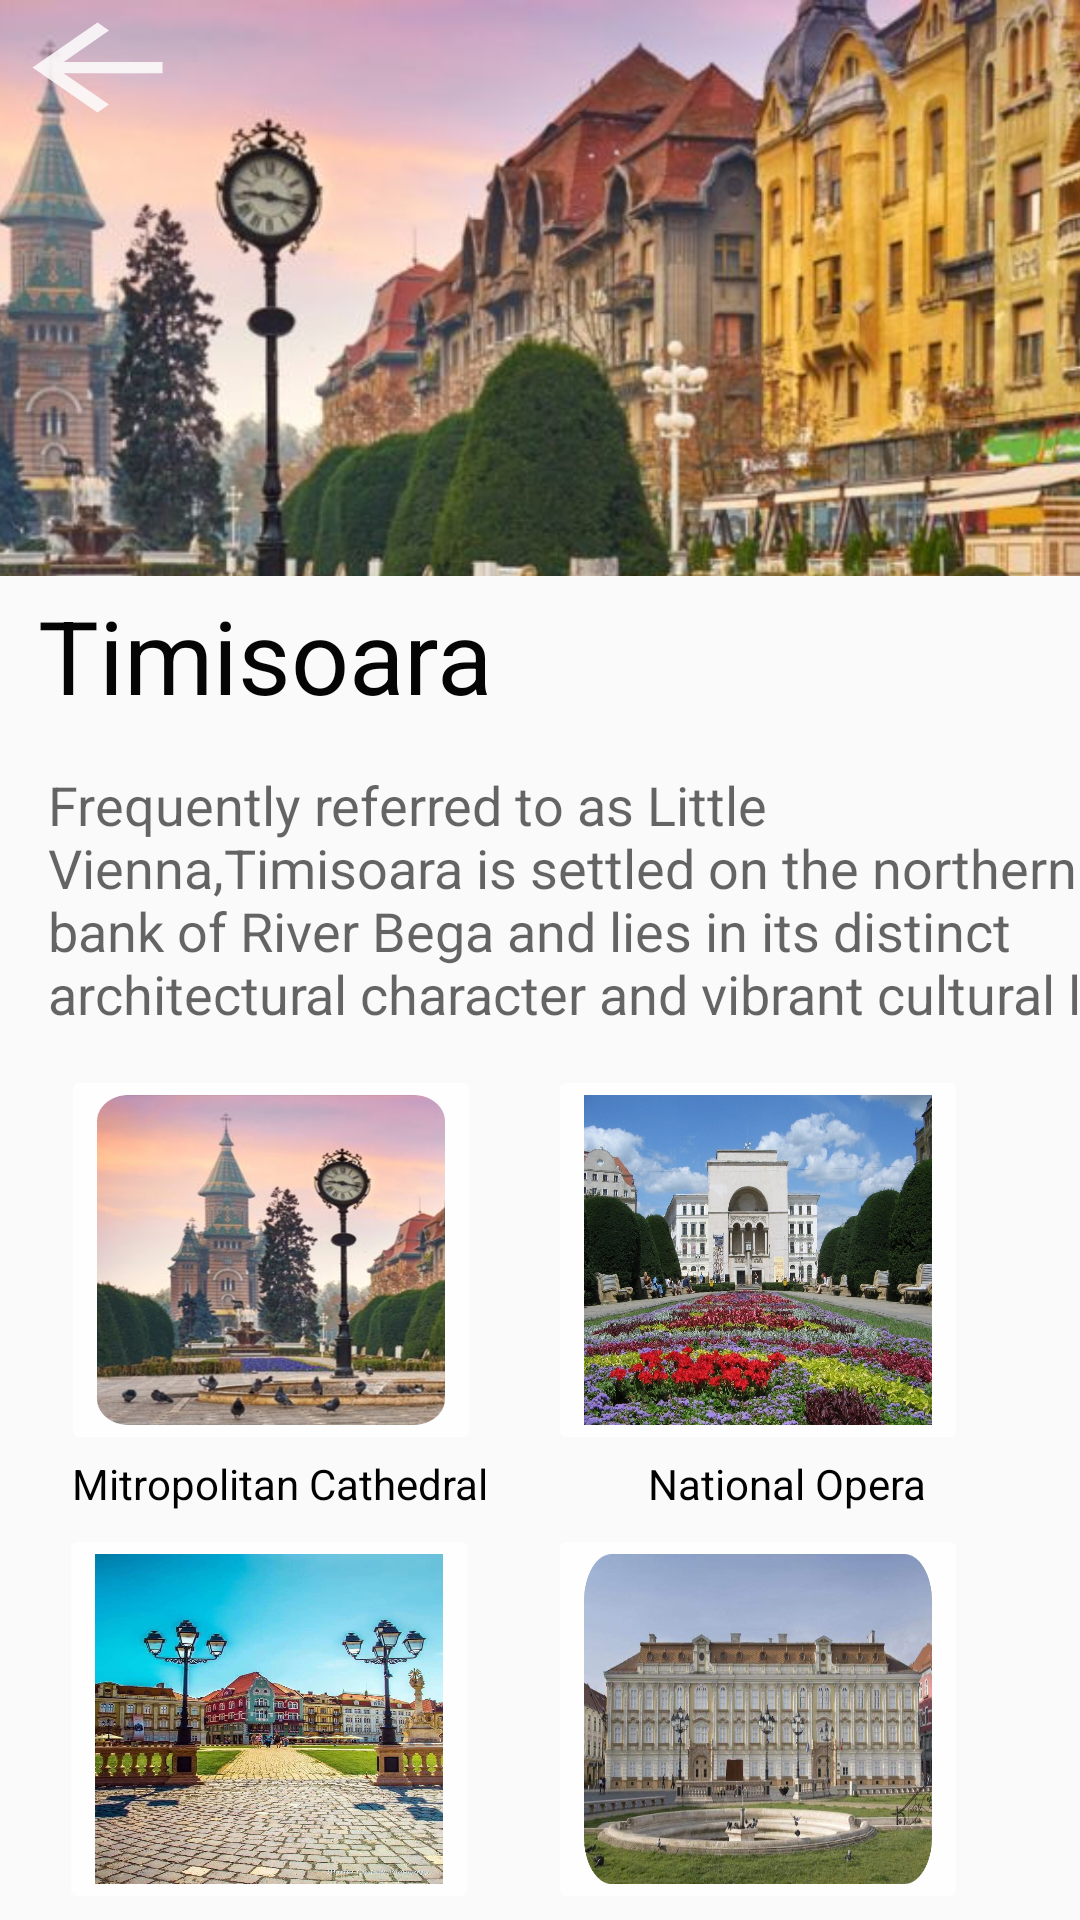

Where icons sit on this 1080w x 1920h app screen, as (x1, y1, x2, y2):
arrow back: (0, 0, 195, 135)
muzeu timi: (584, 1554, 932, 1884)
Unirii Square: (95, 1554, 443, 1884)
